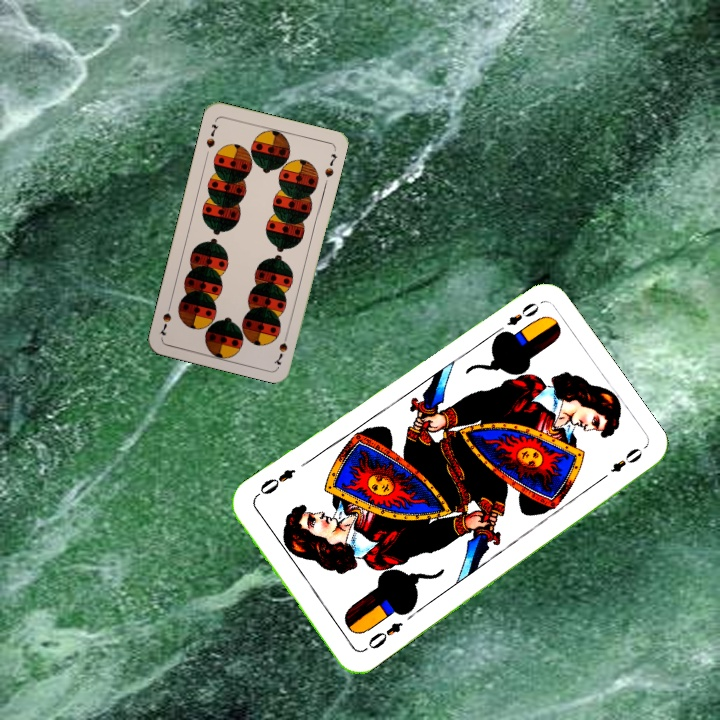EO: (490, 298, 542, 339), (359, 618, 406, 654)
S7: (270, 328, 291, 368), (202, 120, 221, 150)
